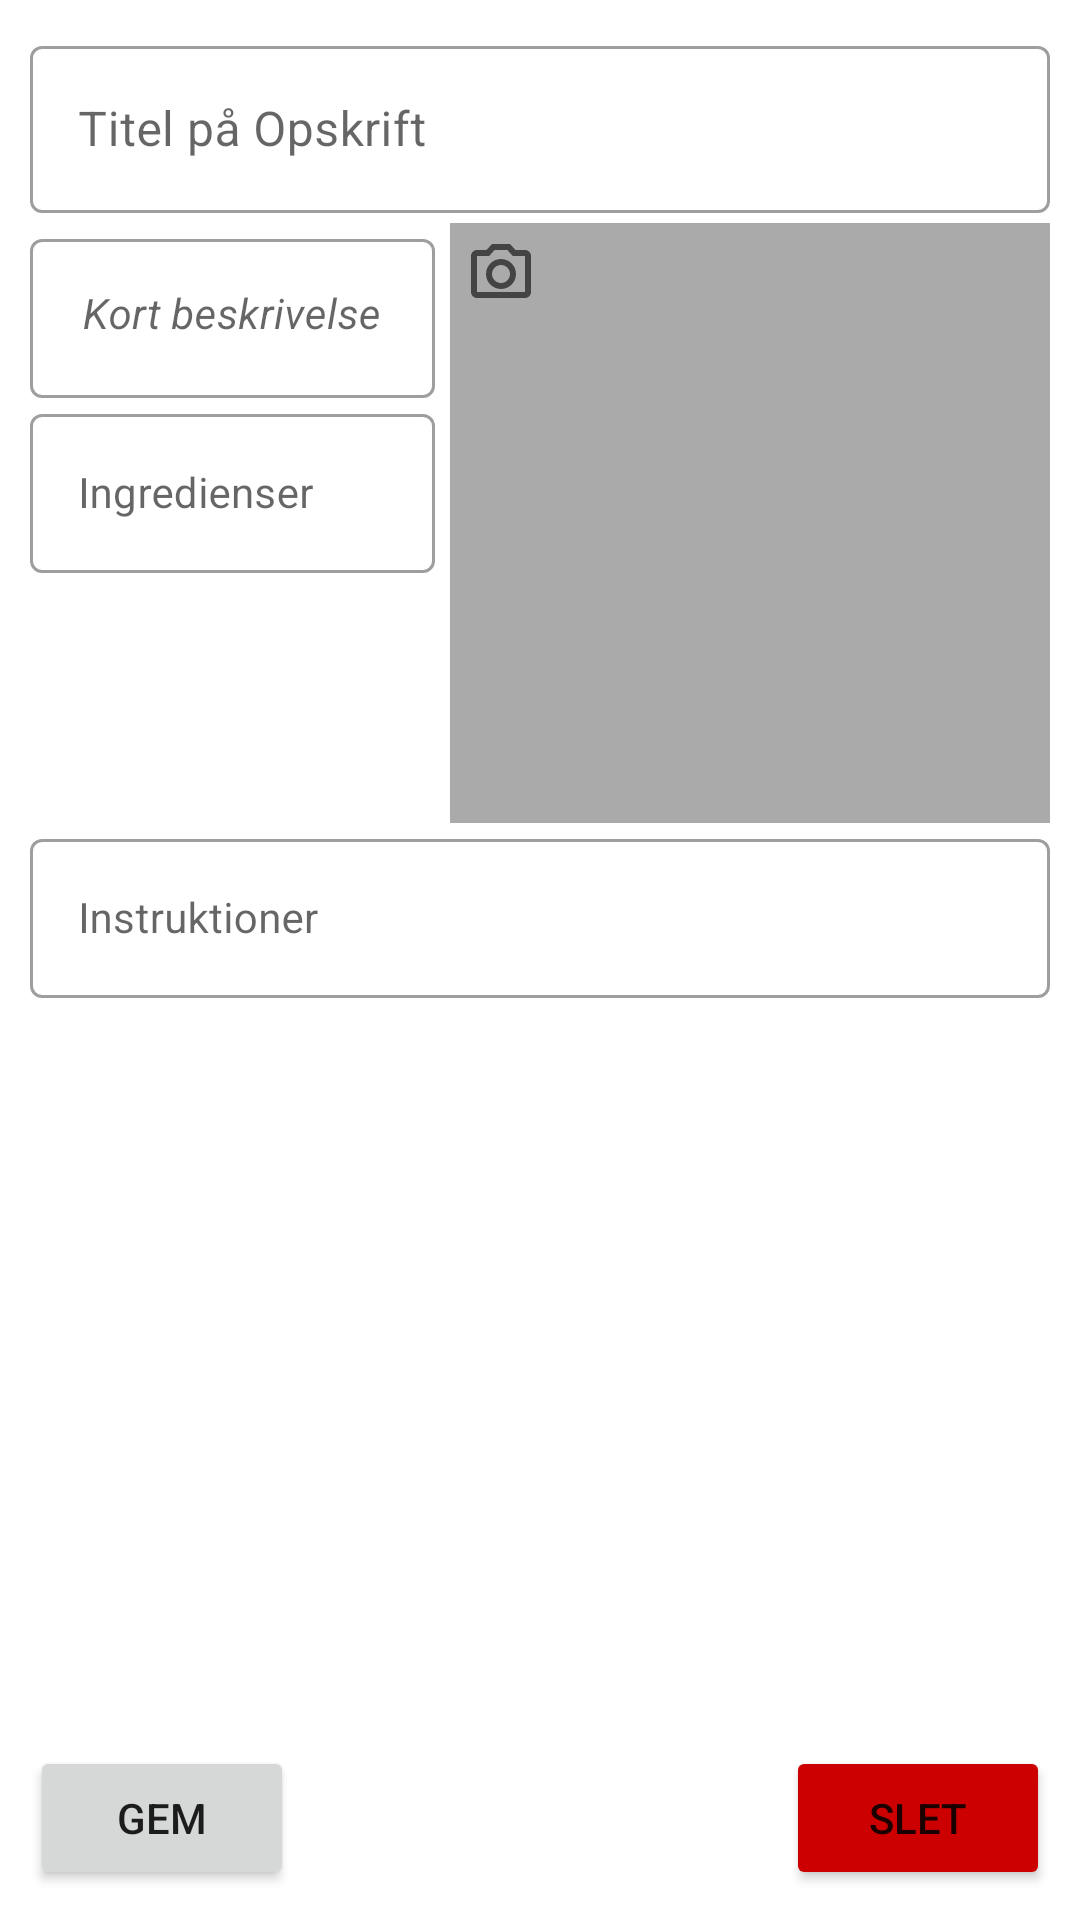

Icon click points for this 1080×1920 phone screenshot, format (x=x, y=y):
camera: (x=501, y=271)
